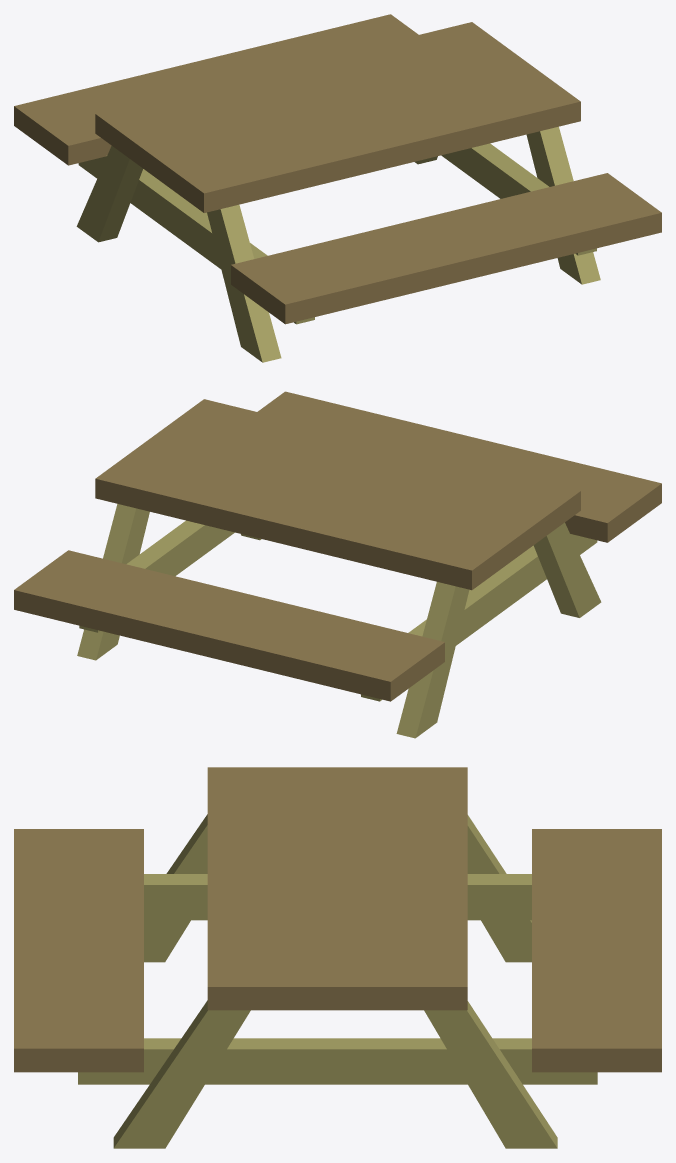
The model's file is picnic tafel.fbx.
3 views of the same model, one above another, from view 1: azimuth 30°, elevation 25°; view 2: azimuth 150°, elevation 25°; view 3: azimuth 270°, elevation 25° (orthographic). The views are drawn at different scales.
Parts seen in each view (by area): view 1: Cube, Cube.008, Cube.007, Cube.001, Cube.006, Cube.004, Cube.005, Cube.002; view 2: Cube, Cube.007, Cube.008, Cube.004, Cube.006, Cube.001, Cube.005, Cube.003; view 3: Cube, Cube.007, Cube.008, Cube.005, Cube.002, Cube.003, Cube.006, Cube.004, Cube.001.
Part boxes in pixels (x1,y1,x2,y2): Cube: (95, 22, 580, 212); Cube.008: (231, 173, 661, 324); Cube.007: (14, 14, 418, 165); Cube.001: (207, 204, 281, 362); Cube.006: (78, 155, 314, 324); Cube.004: (76, 146, 142, 242); Cube.005: (441, 143, 596, 255); Cube.002: (526, 126, 600, 284); Cube: (95, 399, 580, 590); Cube.007: (14, 550, 444, 701); Cube.008: (257, 391, 661, 542); Cube.004: (396, 582, 469, 738); Cube.006: (361, 534, 597, 701); Cube.001: (533, 522, 601, 617); Cube.005: (79, 520, 234, 632); Cube.003: (77, 504, 149, 660); Cube: (207, 767, 467, 1010); Cube.007: (532, 829, 661, 1072); Cube.008: (14, 829, 143, 1072); Cube.005: (78, 1038, 597, 1084); Cube.002: (113, 1000, 250, 1148); Cube.003: (424, 1001, 557, 1148); Cube.006: (144, 874, 531, 920); Cube.004: (467, 815, 531, 962); Cube.001: (144, 814, 207, 962).
Bounding box in the file's own units: 200 × 73.52 × 249.
